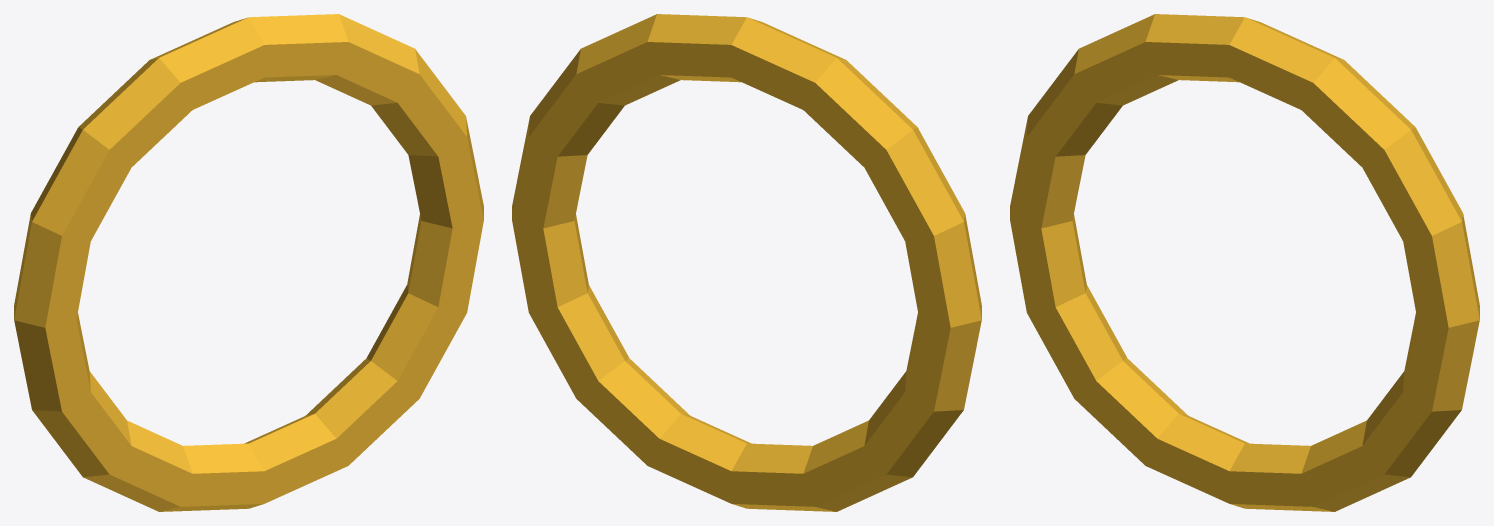
File: sonic.glb
The picture shows the model from 3 angles, left to right: view 1: azimuth 30°, elevation 25°; view 2: azimuth 150°, elevation 25°; view 3: azimuth 330°, elevation 25°; orthographic projection.
Parts seen in each view (by area): view 1: Rim.002; view 2: Rim.002; view 3: Rim.002.
Part boxes in pixels (box(x1,y1,x2,y2)): Rim.002: box(14, 14, 483, 511); Rim.002: box(512, 14, 981, 511); Rim.002: box(1010, 14, 1479, 511).
Size of the model in its own units: 1.13 by 1.13 by 0.1299.
